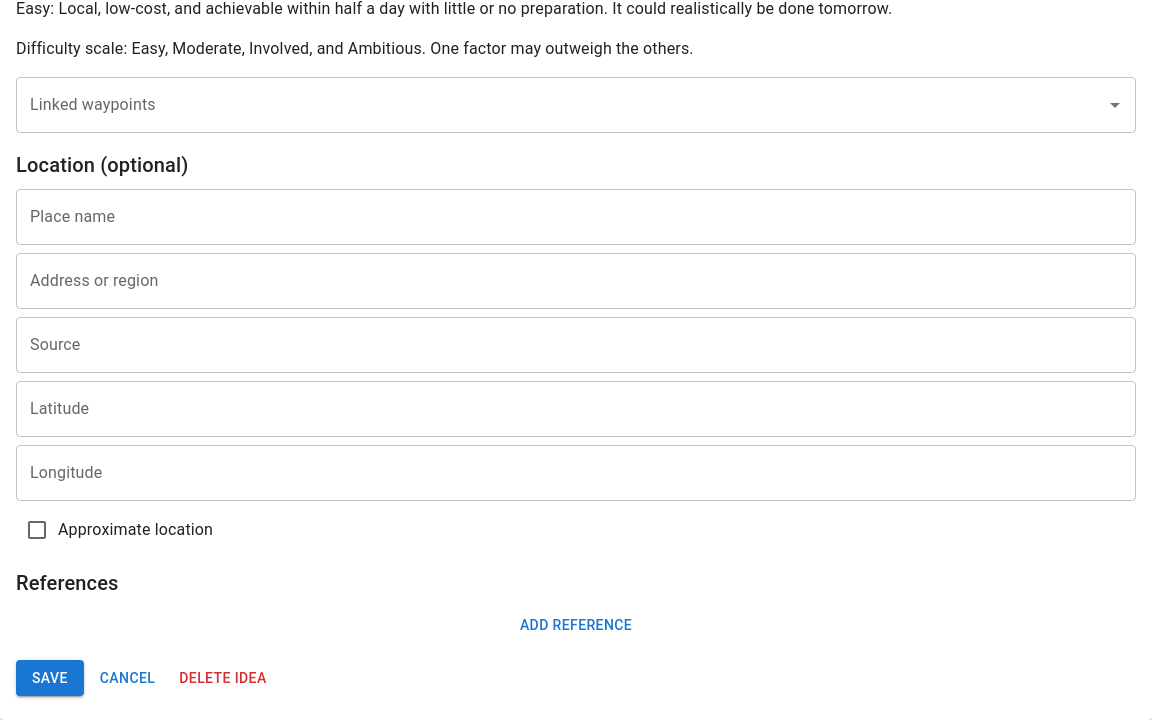
Scenario: IdeaEditor › requires a title
The width and height of the screenshot is (1152, 720).
(page scrolled)
Click the button "Save" at (50,678), box left=16, top=660, right=84, bottom=696
(page scrolled)
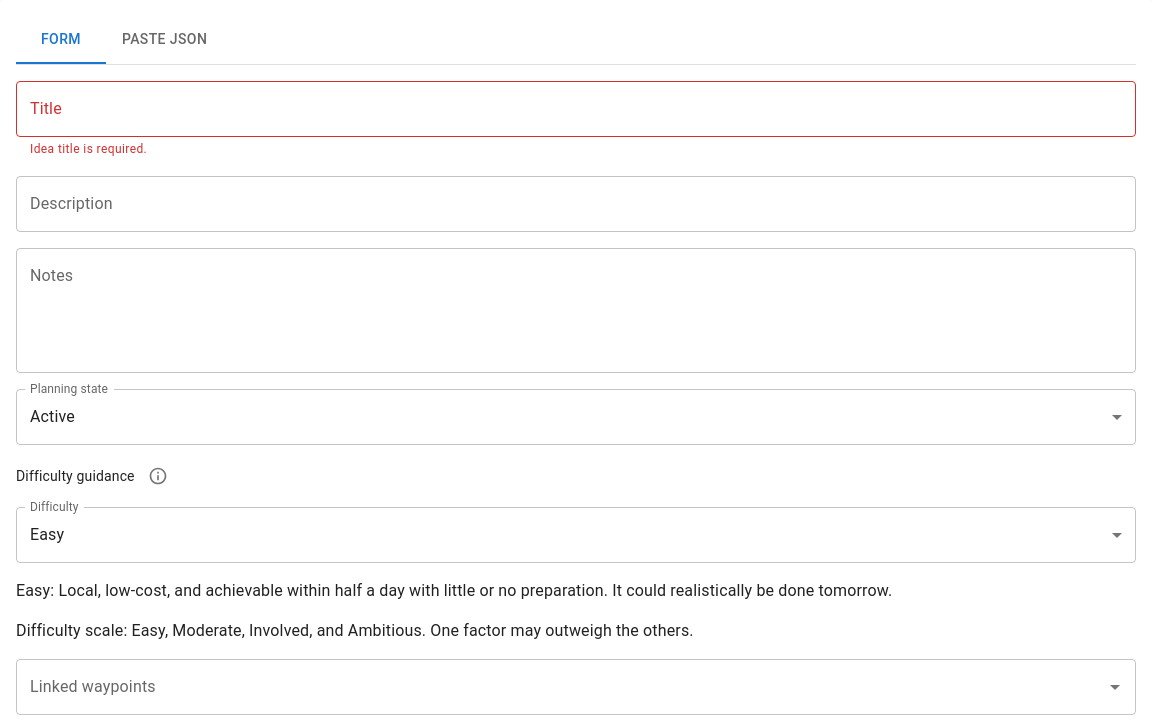
Expected: the text "Idea title is required." is shown, left=30, top=142, right=147, bottom=156
